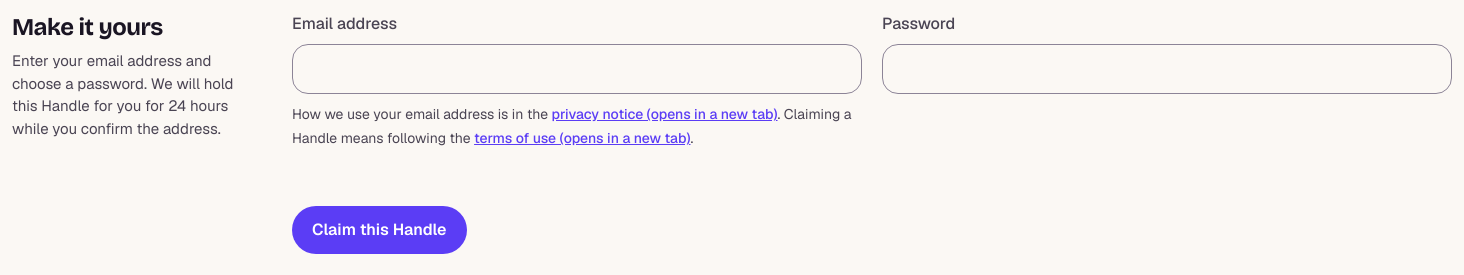
Scenario: the claim form › renders a rejection for reserved
Type "claimant@example.com" into the field labelled "Email address" at [577, 69], box [292,44,862,94]
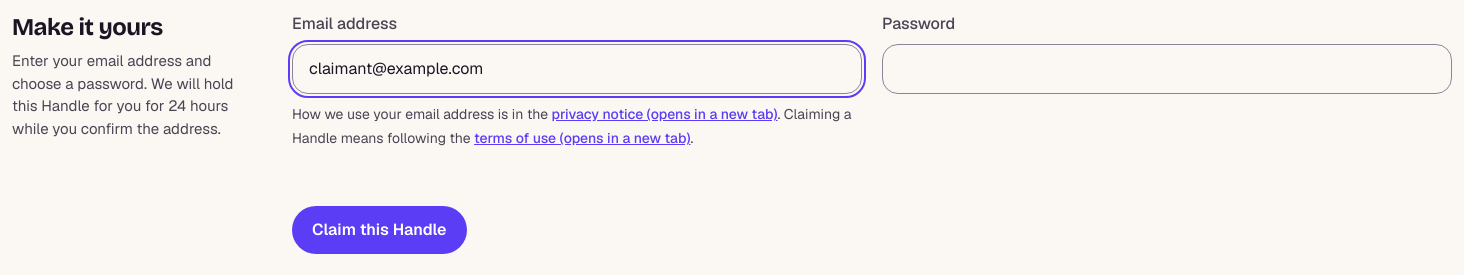
Type "correct horse battery staple" into the password field labelled "Password" at [1167, 69], box [882,44,1452,94]
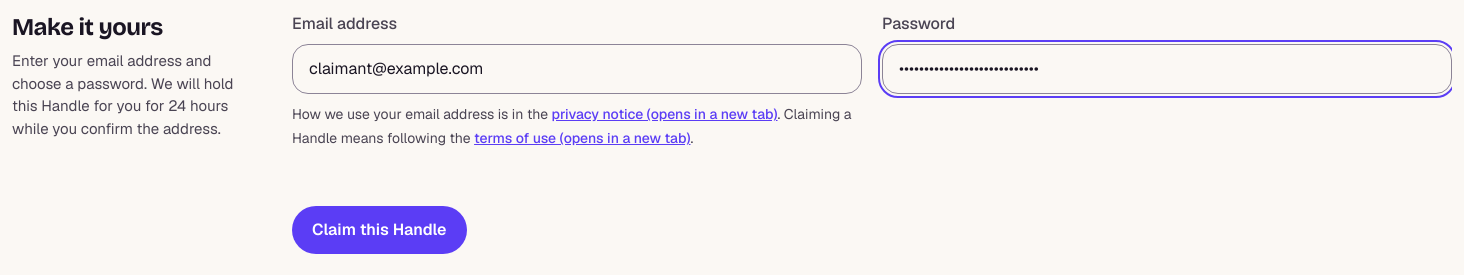
Click the button "Claim this Handle" at [379, 230], box [292,206,467,254]
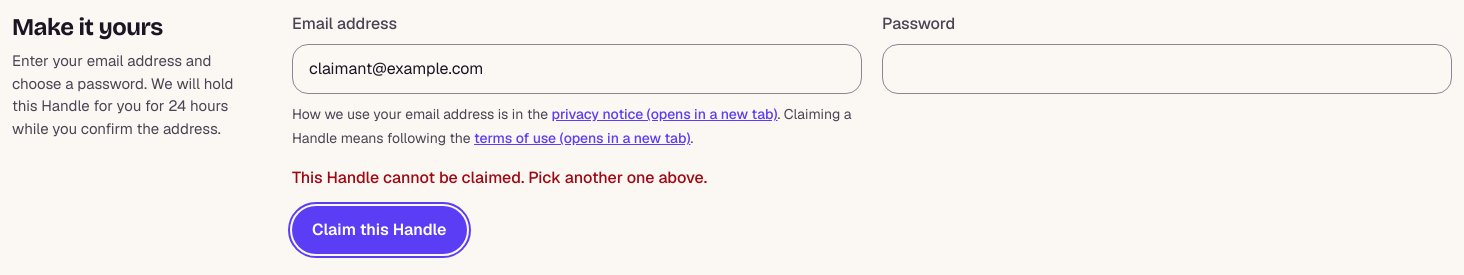
expect the message reads "This Handle cannot be claimed. Pick another one above.": met, box [292,167,707,188]
